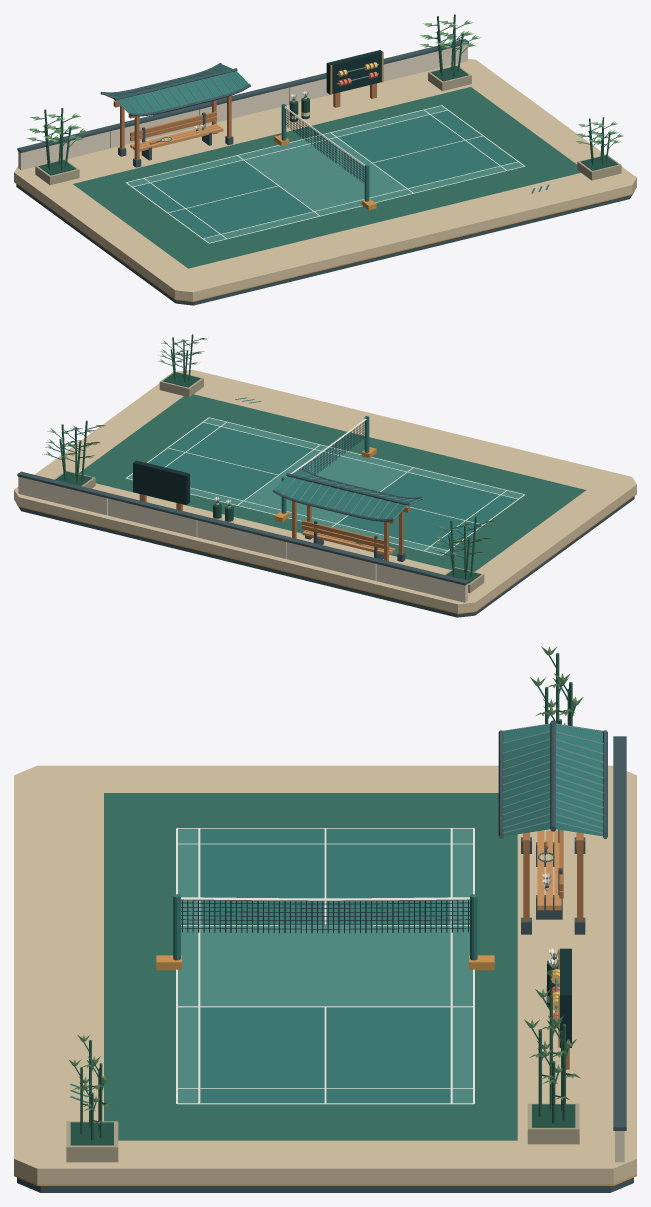
The model's file is badminton.glb.
3 views of the same model, one above another, from view 1: azimuth 30°, elevation 25°; view 2: azimuth 150°, elevation 25°; view 3: azimuth 270°, elevation 25° (orthographic). The views are drawn at different scales.
Parts seen in each view (by area): view 1: SM_BD_Court, SM_BD_Ground, SM_BD_Garden, SM_BD_Fixtures, SM_BD_Net; view 2: SM_BD_Court, SM_BD_Ground, SM_BD_Garden, SM_BD_Fixtures, SM_BD_Net; view 3: SM_BD_Court, SM_BD_Ground, SM_BD_Garden, SM_BD_Net, SM_BD_Fixtures.
Part boxes in pixels (<box>): SM_BD_Court: <box>73,87,580,268</box>; SM_BD_Ground: <box>14,59,636,305</box>; SM_BD_Garden: <box>17,14,623,185</box>; SM_BD_Fixtures: <box>289,50,383,121</box>; SM_BD_Net: <box>274,104,376,210</box>; SM_BD_Court: <box>78,394,586,571</box>; SM_BD_Ground: <box>14,369,636,617</box>; SM_BD_Garden: <box>17,334,494,602</box>; SM_BD_Fixtures: <box>133,460,233,523</box>; SM_BD_Net: <box>274,416,376,522</box>; SM_BD_Court: <box>70,793,517,1140</box>; SM_BD_Ground: <box>14,765,636,1192</box>; SM_BD_Garden: <box>66,646,626,1162</box>; SM_BD_Net: <box>156,894,494,970</box>; SM_BD_Fixtures: <box>546,948,571,1069</box>.
Bounding box in the file's own units: 19.64 × 3.43 × 12.8.
1 material, 1 textured.
